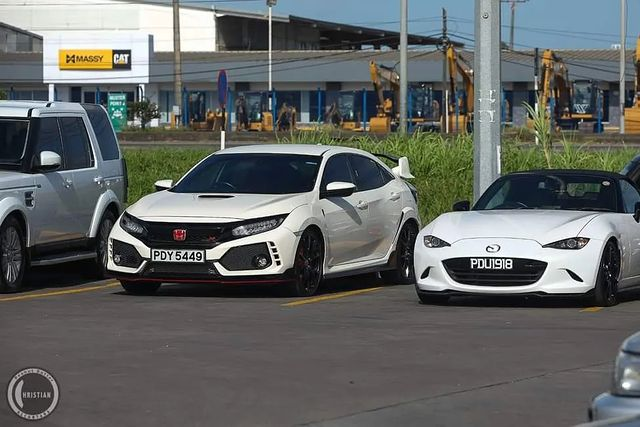License-Plate: (151, 248, 204, 260), (468, 257, 514, 269)
